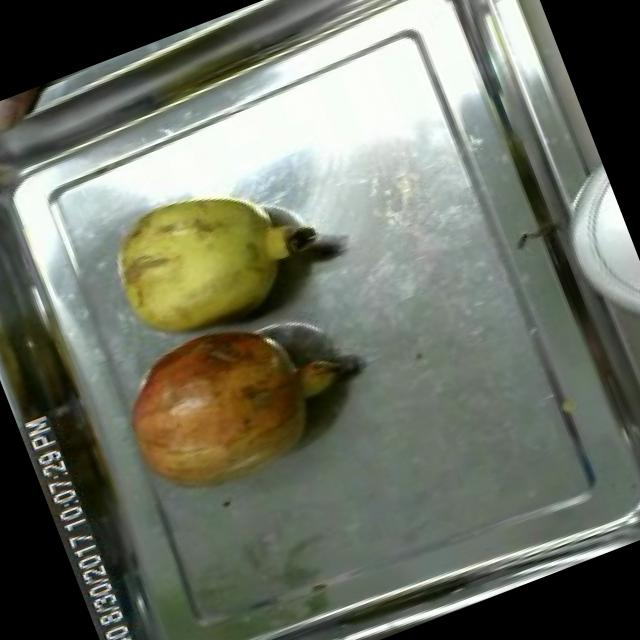fruit: (92, 276, 383, 524), (85, 150, 334, 362), (0, 78, 69, 144)
